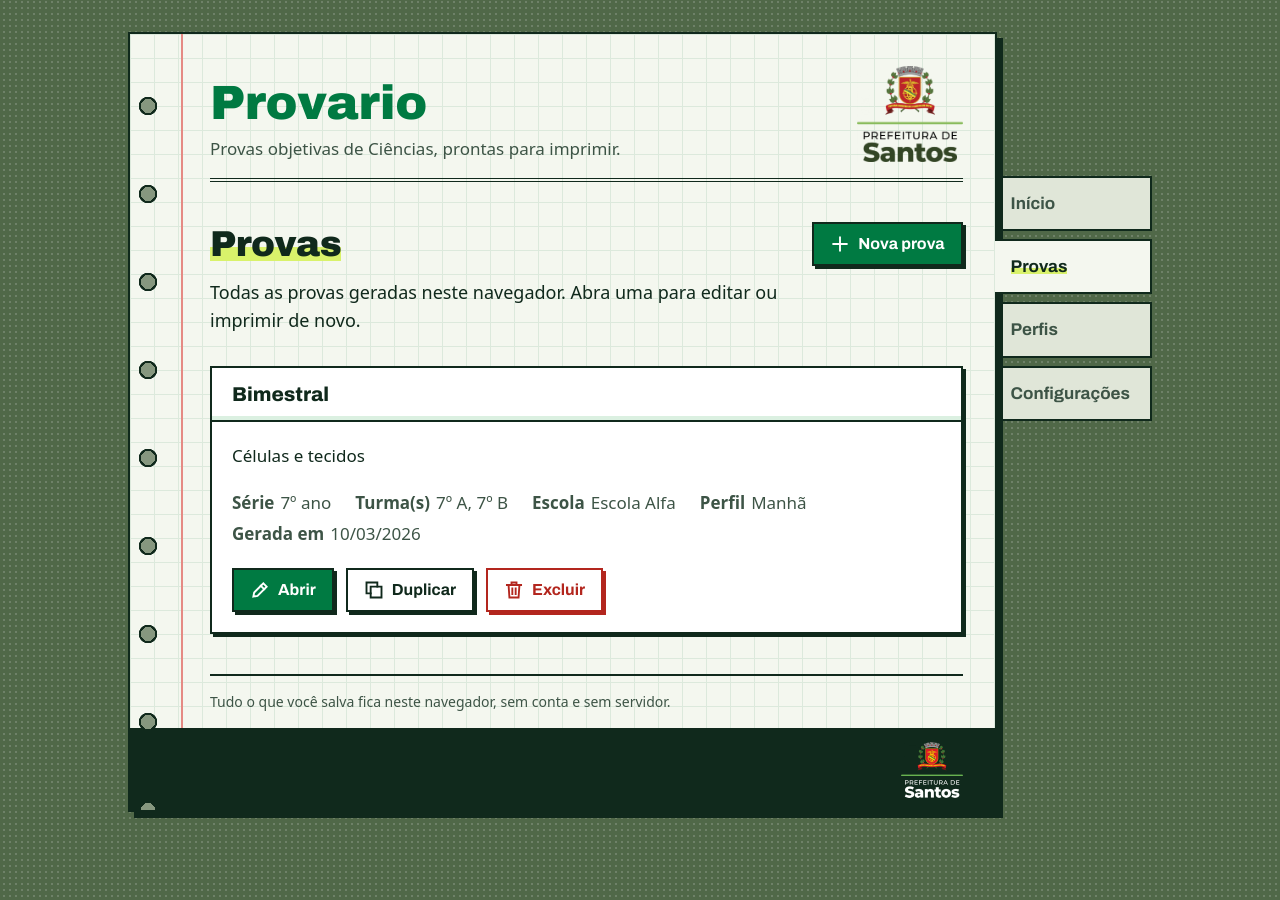
Test: Provas — duplicar › Quando duplica, grava a cópia com id novo e título "(cópia)" e abre a cópia com aviso
Click the button with aria-label "Duplicar Bimestral".
click(410, 590)  # box top-left (346, 568), bottom-right (474, 612)
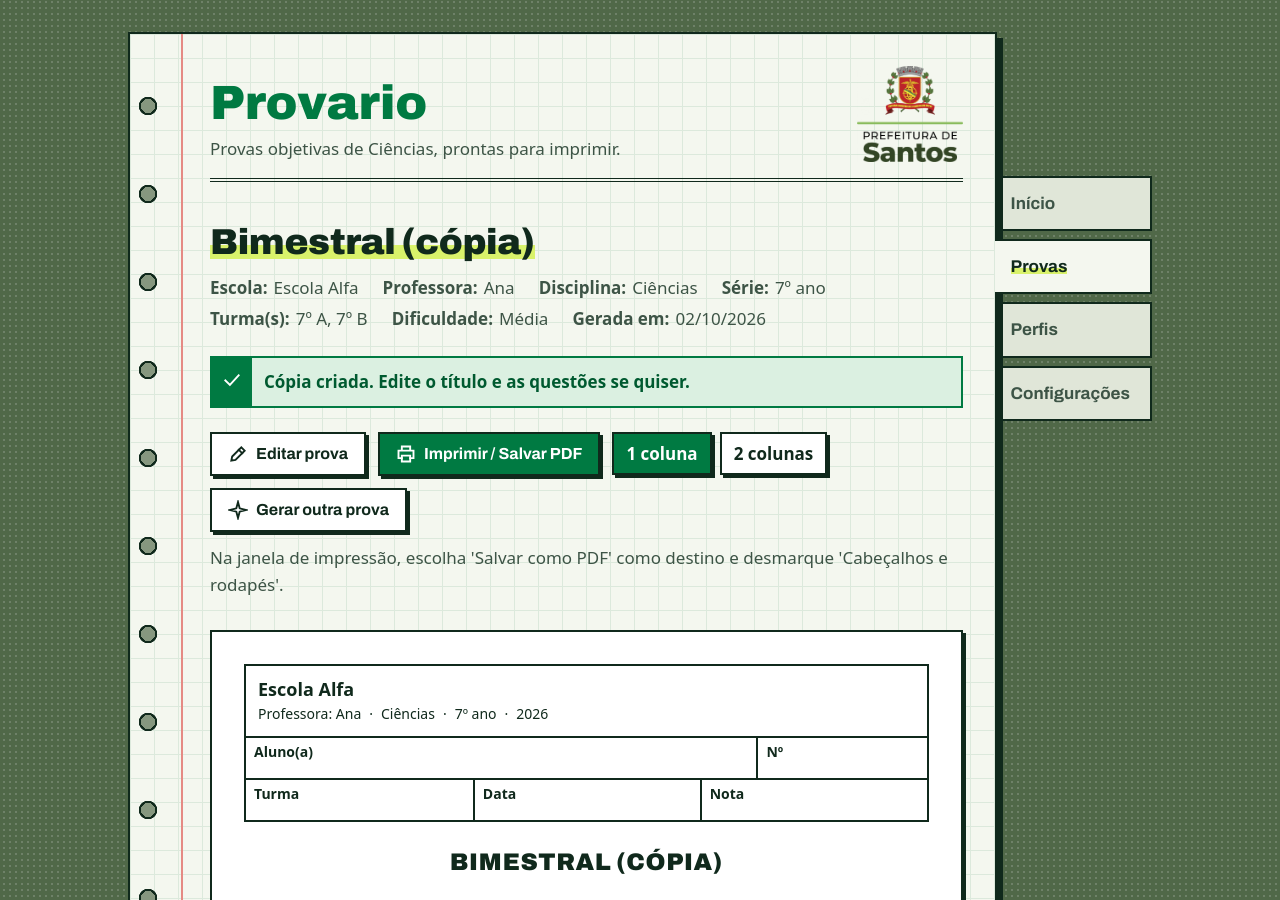
Expected: the text "Bimestral (cópia)" is shown, top-left (210, 222), bottom-right (534, 262)
Expected: the message reads "Cópia criada. Edite o título e as questões se quiser.", top-left (264, 370), bottom-right (690, 393)
